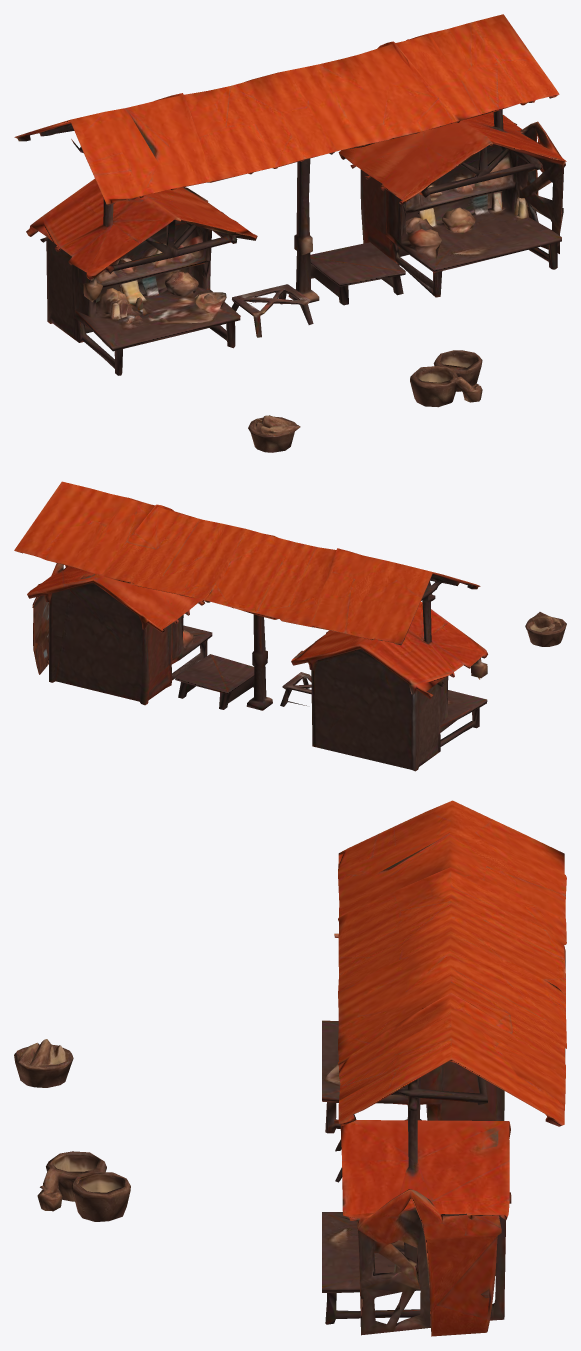
Rendered from market.glb.
3 renders of one model, top to bottom at view 1: azimuth 30°, elevation 25°; view 2: azimuth 150°, elevation 25°; view 3: azimuth 270°, elevation 25°, orthographic. The views are drawn at different scales.
Bounding box in the file's own units: 1.9 × 0.8287 × 1.54.
Materials: 1 (1 with a texture image).
